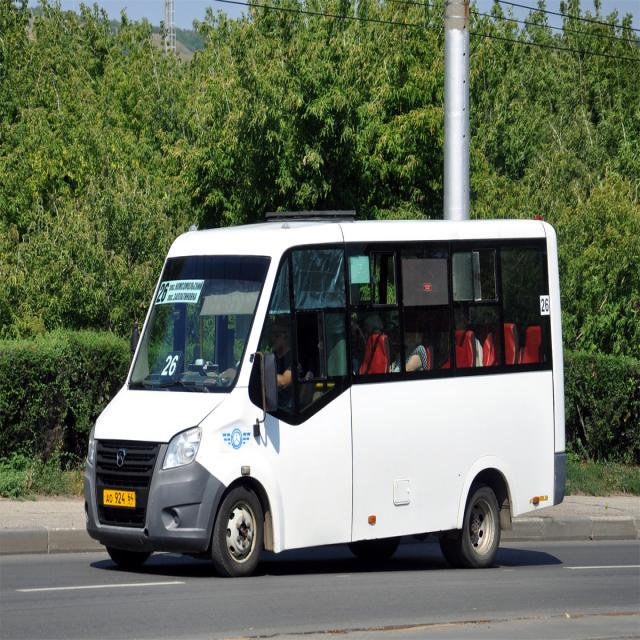number-of-bus: (161, 351, 182, 381), (157, 281, 171, 304)
